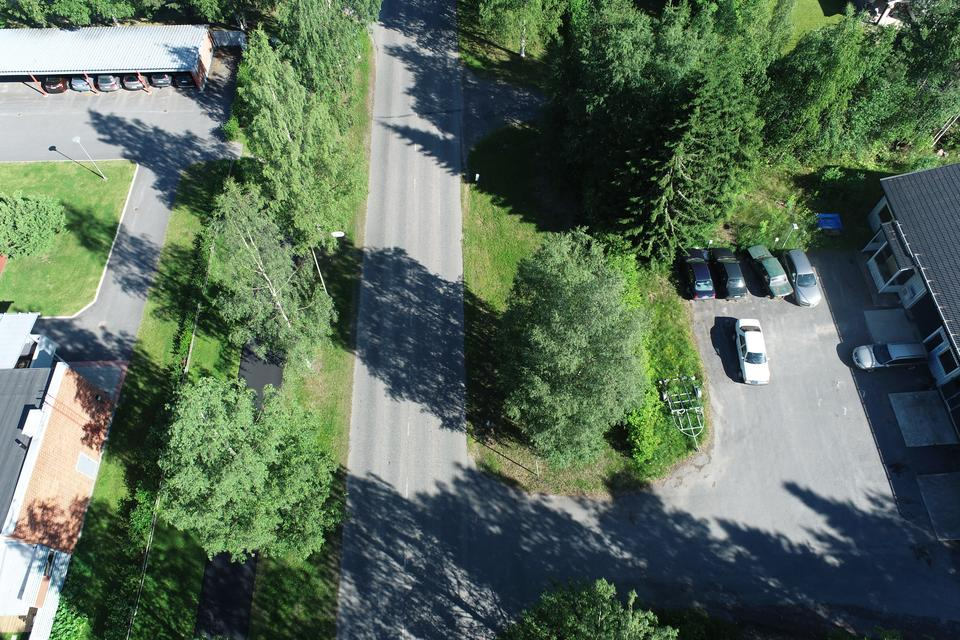intersection: (316, 453, 577, 640), (336, 42, 521, 170)
